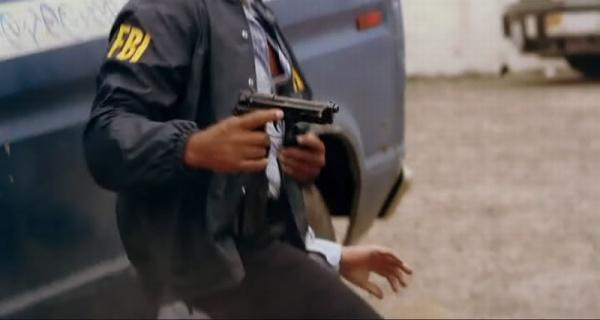Gun: (233, 90, 340, 134)
